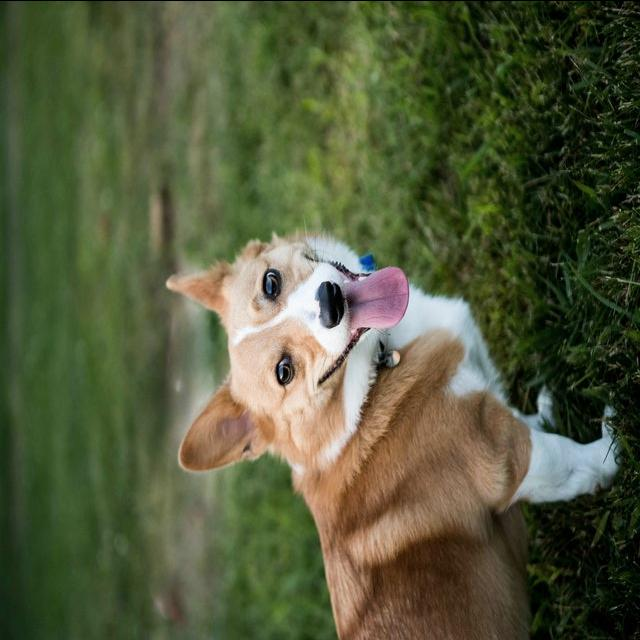corgi: (164, 228, 624, 640)
